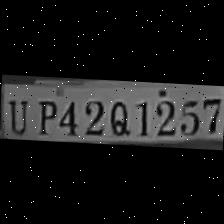1: (130, 96, 152, 137)
2: (80, 94, 106, 135), (151, 95, 177, 136)
4: (54, 94, 80, 135)
5: (177, 94, 201, 136)
7: (200, 92, 222, 134)
P: (31, 93, 57, 134)
Q: (104, 96, 130, 137)
U: (3, 94, 30, 134)
